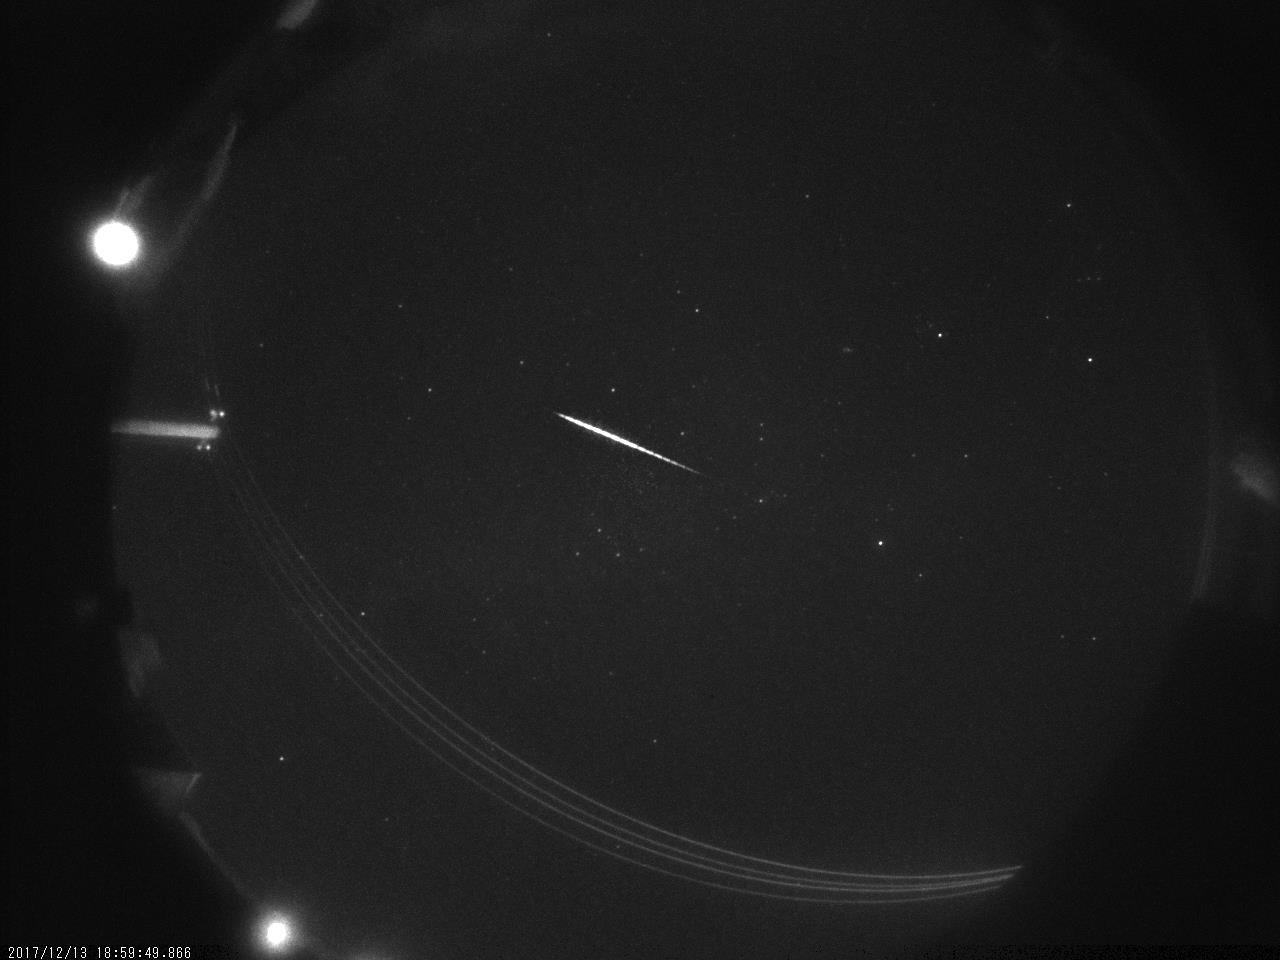meteor: (520, 384, 733, 500)
